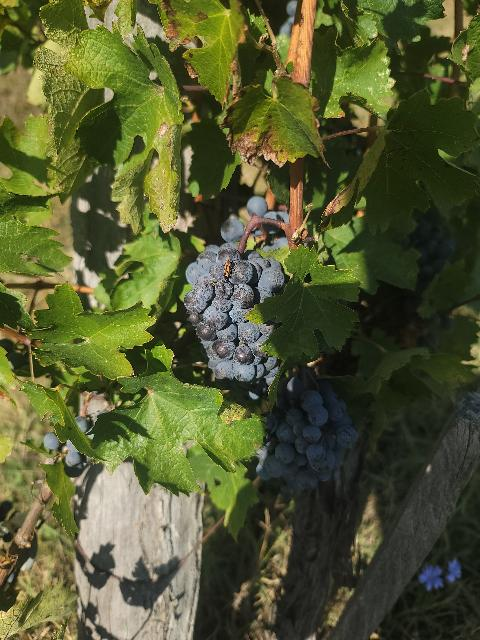grapes: (184, 242, 285, 394), (256, 390, 358, 490)
